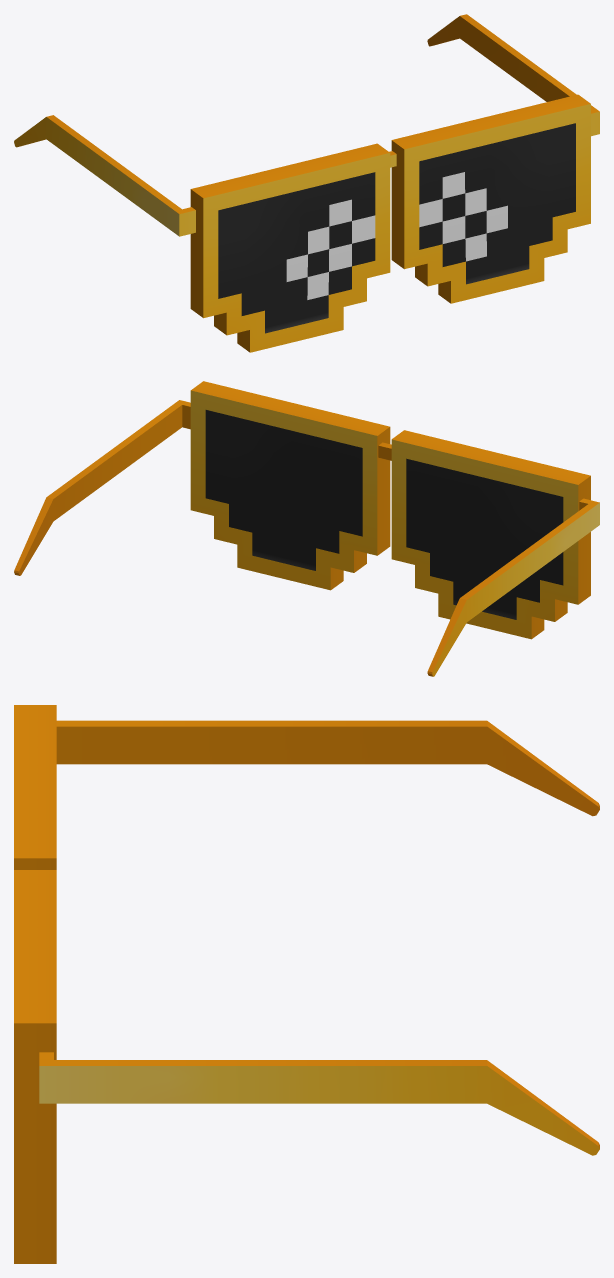
File: Star005.fbx
The picture shows the model from 3 angles, top to bottom: view 1: azimuth 30°, elevation 25°; view 2: azimuth 150°, elevation 25°; view 3: azimuth 270°, elevation 25°; orthographic projection. The views are drawn at different scales.
Visible parts, largest first — view 1: Star005; view 2: Star005; view 3: Star005.
Boxes of the visible parts, x1,y1,x2,y2 form: Star005: (14, 14, 599, 352); Star005: (14, 381, 599, 676); Star005: (14, 705, 599, 1263).
Size of the model in its own units: 87.23 by 32.87 by 62.57.
